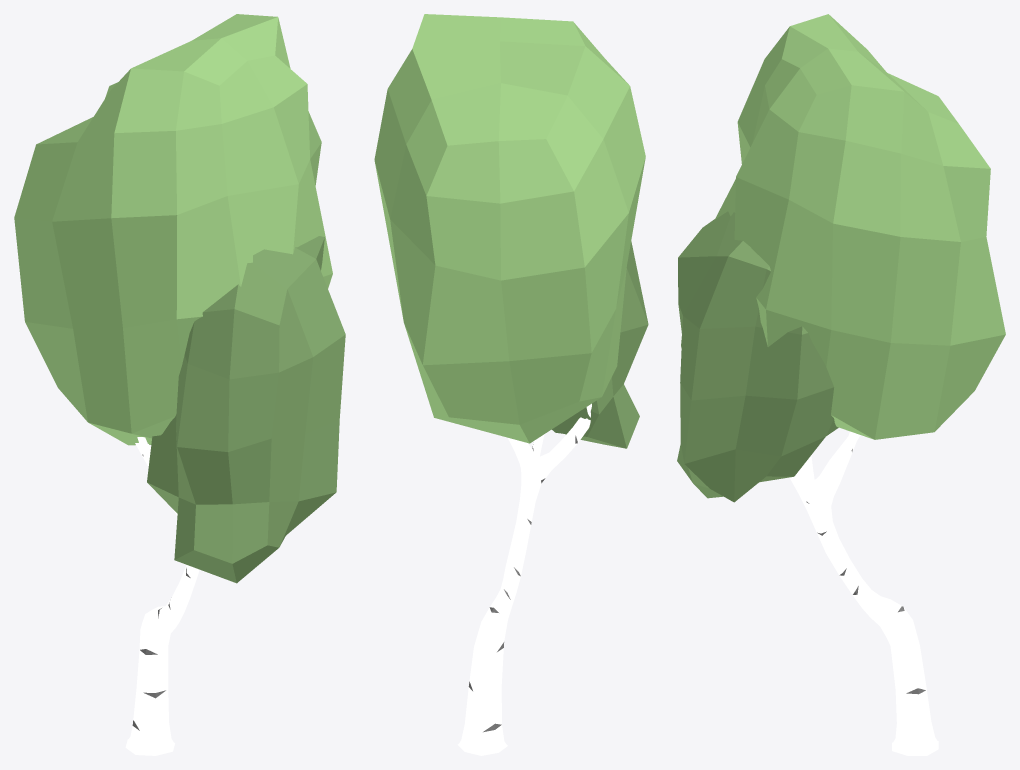
File: BirchTree_2.gltf
3 views of the same model, side by side, from view 1: azimuth 30°, elevation 25°; view 2: azimuth 150°, elevation 25°; view 3: azimuth 270°, elevation 25° (orthographic). The views are drawn at different scales.
Parts seen in each view (by area): view 1: BirchTree_2; view 2: BirchTree_2; view 3: BirchTree_2.
Part boxes in pixels (x1,y1,x2,y2): BirchTree_2: [14, 14, 345, 755]; BirchTree_2: [374, 14, 648, 755]; BirchTree_2: [677, 14, 1005, 755].
Size of the model in its own units: 147 by 403 by 169.
